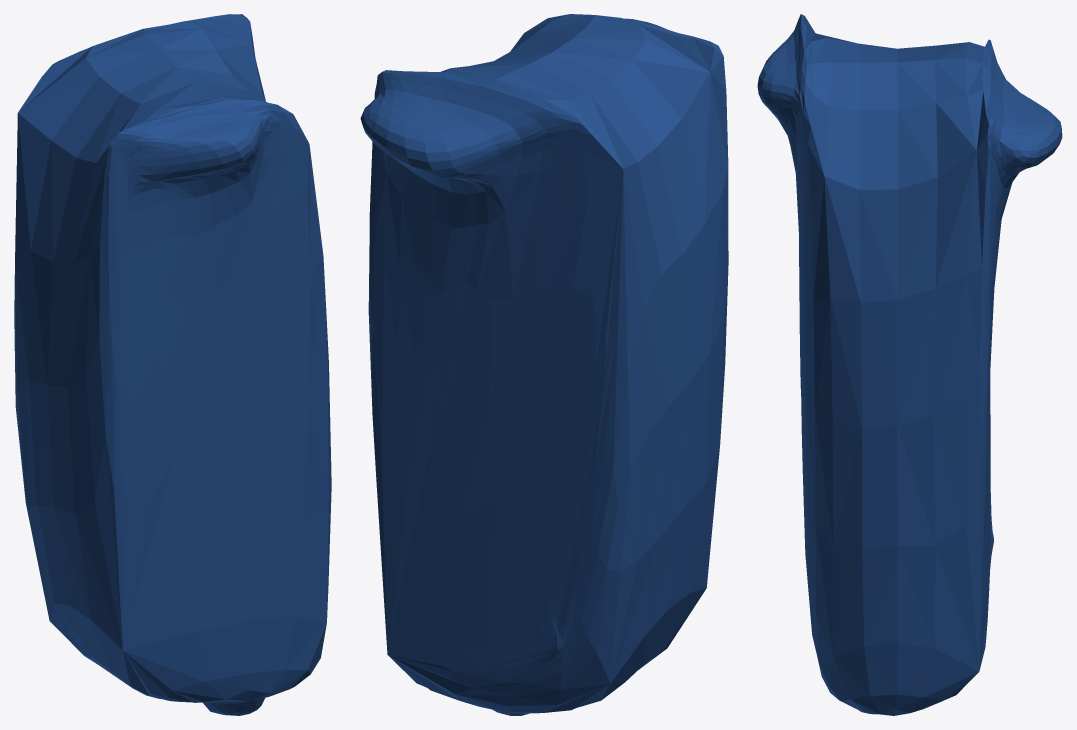
3 renders of one model, left to right at view 1: azimuth 30°, elevation 25°; view 2: azimuth 150°, elevation 25°; view 3: azimuth 270°, elevation 25°, orthographic. The views are drawn at different scales.
Parts seen in each view (by area): view 1: 918_Cube.3710; view 2: 918_Cube.3710; view 3: 918_Cube.3710.
Boxes of the visible parts, x1,y1,x2,y2 form: 918_Cube.3710: (14, 14, 331, 715); 918_Cube.3710: (360, 14, 728, 715); 918_Cube.3710: (757, 14, 1062, 715).
Bounding box in the file's own units: 5.54 × 12.69 × 5.55.
